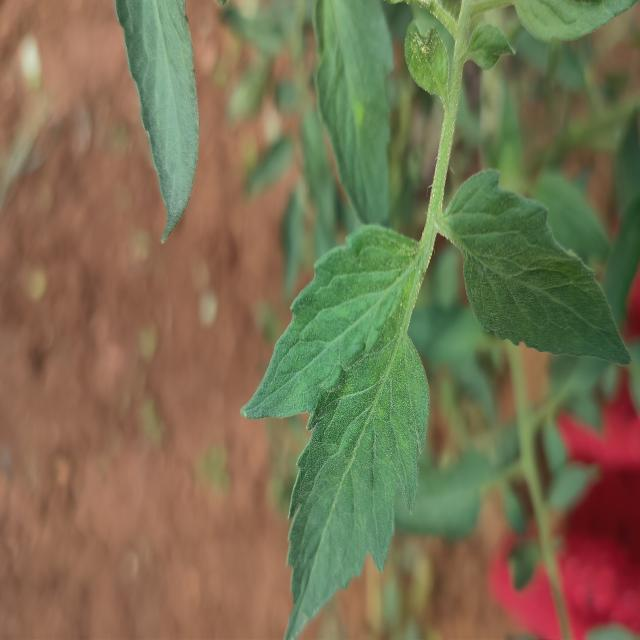tomato_healthy: (280, 308, 438, 640), (239, 209, 427, 439), (437, 166, 633, 370)
